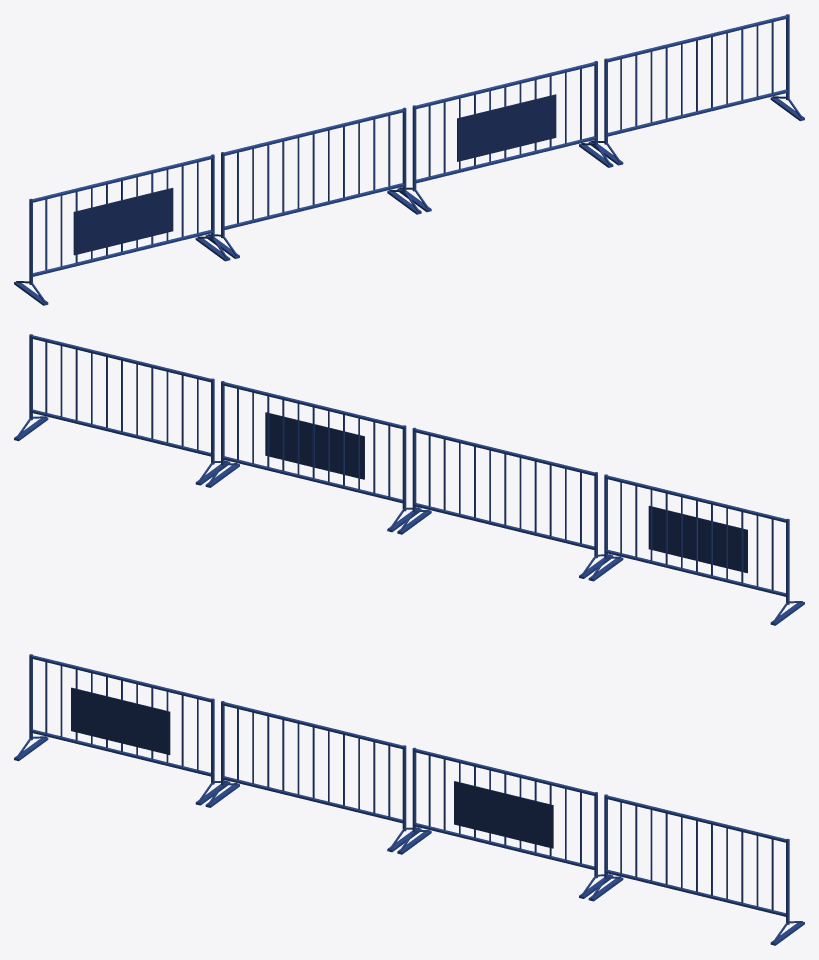
The model's file is crowd_barrier.glb.
The picture shows the model from 3 angles, top to bottom: view 1: azimuth 30°, elevation 25°; view 2: azimuth 150°, elevation 25°; view 3: azimuth 330°, elevation 25°; orthographic projection.
Parts seen in each view (by area): view 1: Barrier; view 2: Barrier; view 3: Barrier.
Part boxes in pixels (bbox=[...]): Barrier: bbox=[14, 14, 804, 305]; Barrier: bbox=[14, 334, 804, 625]; Barrier: bbox=[14, 654, 804, 945].
Size of the model in its own units: 9.24 by 1.1 by 0.62.
